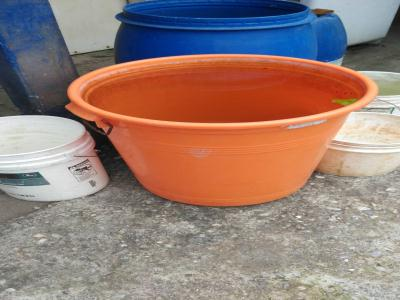bucket: (60, 51, 382, 208), (111, 2, 321, 77), (1, 113, 112, 204), (306, 108, 400, 181)
